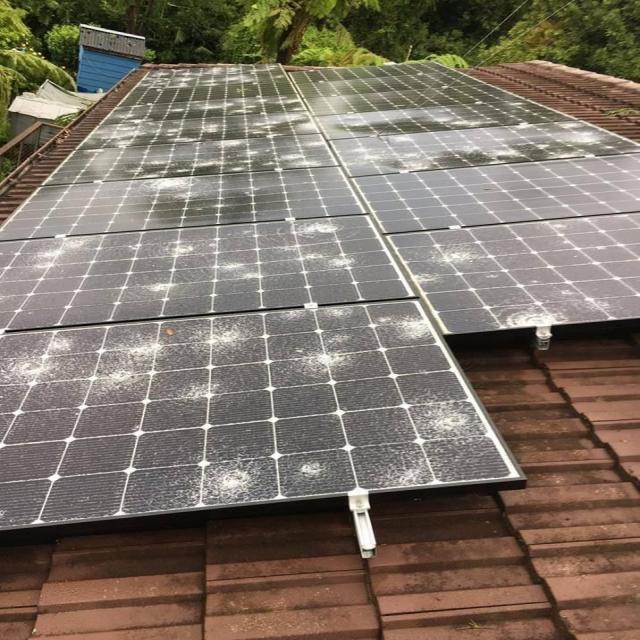Anomaly Solar Panel: (0, 298, 525, 529), (0, 213, 416, 329), (384, 211, 639, 334), (1, 165, 366, 240), (351, 153, 639, 233), (327, 119, 639, 176), (39, 133, 337, 183), (288, 61, 526, 114), (102, 64, 309, 123), (312, 99, 578, 139), (74, 110, 319, 148)
Structural Damage: (351, 393, 509, 488), (154, 446, 342, 501), (467, 286, 628, 330), (177, 322, 255, 405), (392, 239, 512, 291), (88, 336, 165, 401), (2, 334, 76, 401), (289, 338, 359, 382), (144, 63, 282, 79), (32, 236, 91, 273), (132, 74, 258, 91), (374, 312, 434, 347), (271, 305, 365, 325), (211, 256, 268, 287), (297, 249, 362, 273), (141, 177, 204, 201), (460, 142, 525, 164), (531, 214, 593, 237), (288, 220, 352, 242), (151, 239, 218, 259), (125, 159, 189, 179), (140, 278, 191, 298), (262, 152, 321, 169), (191, 156, 247, 173), (427, 114, 497, 127), (563, 121, 599, 146), (210, 139, 260, 156), (350, 144, 385, 167), (535, 142, 582, 159), (105, 127, 145, 145), (398, 150, 432, 171), (245, 120, 279, 135), (166, 128, 198, 143), (256, 96, 302, 106), (290, 114, 315, 131), (344, 113, 370, 129), (124, 238, 147, 256), (193, 102, 236, 110), (118, 113, 155, 122), (298, 138, 328, 148), (227, 105, 256, 115), (392, 135, 418, 144), (203, 122, 222, 134), (513, 123, 536, 131), (507, 100, 527, 107), (168, 108, 187, 112)
